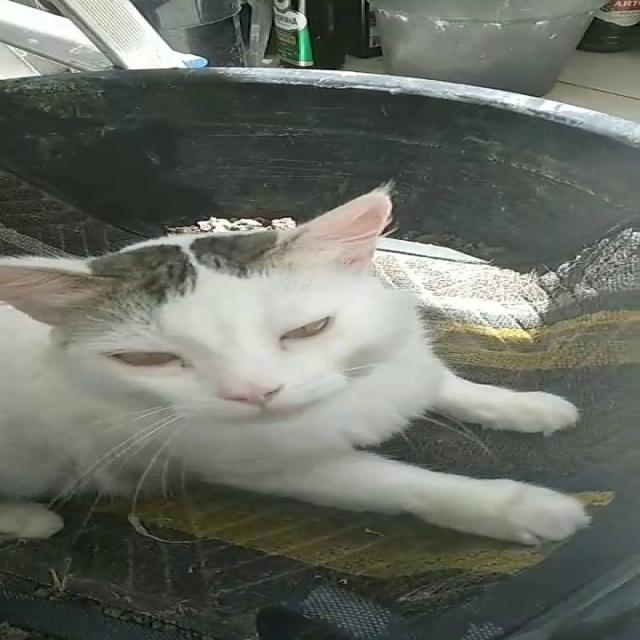Simba: (0, 187, 588, 569)
